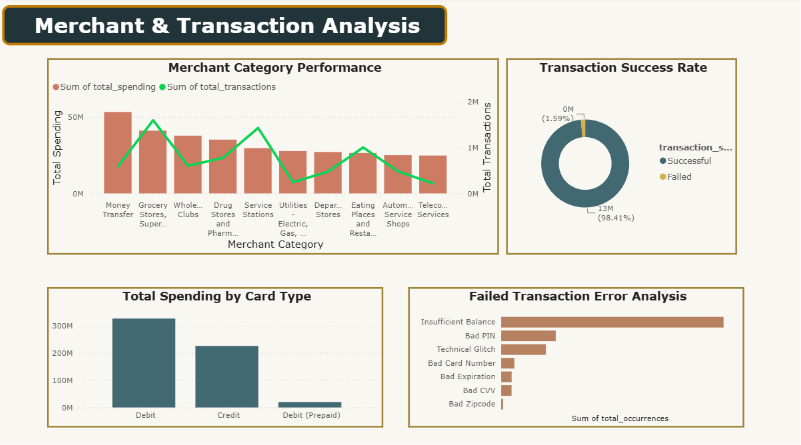

The page's visual inventory and layout, read from the dashboard file:
{"tool":"powerbi","page":{"name":"Merchant & Transaction Analysis","canvas":[1280,720],"ordinal":2},"visuals":[{"type":"lineClusteredColumnComboChart","title":"Merchant Category Performance","fields":{"Category":["02_merchant_category_analysis.merchant_category"],"Y":["Sum(02_merchant_category_analysis.total_spending)"],"Y2":["Sum(02_merchant_category_analysis.total_transactions)"]},"box":[76.1,97.2,718.9,312.5],"z":0},{"type":"columnChart","title":"Total Spending by Card Type","fields":{"Category":["03_card_type_performance.card_type"],"Y":["Sum(03_card_type_performance.total_spending)"]},"box":[76.1,461.5,534.3,223.5],"z":1000},{"type":"donutChart","title":"Transaction Success Rate","fields":{"Category":["06_transaction_status.transaction_status"],"Y":["Sum(06_transaction_status.total_transactions)"]},"box":[806.4,97.2,367.6,312.5],"z":2000},{"type":"barChart","title":"Failed Transaction Error Analysis","fields":{"Category":["07_transaction_error_analysis.error_type"],"Y":["Sum(07_transaction_error_analysis.total_occurrences)"]},"box":[650.9,461.5,534.3,223.5],"z":3000},{"type":"textbox","title":"Merchant & Transaction Analysis","box":[4,12,708,64],"z":3001}]}

Visuals, with their boxes in screenshot pixels (x1, y1, x2, y2), scaled from the page's 1280x720 canvas onto the 801x445 screenshot:
"Merchant Category Performance" lineClusteredColumnComboChart: select_region(48, 60, 497, 253)
"Total Spending by Card Type" columnChart: select_region(48, 285, 382, 423)
"Transaction Success Rate" donutChart: select_region(505, 60, 735, 253)
"Failed Transaction Error Analysis" barChart: select_region(407, 285, 742, 423)
"Merchant & Transaction Analysis" textbox: select_region(3, 7, 446, 47)
